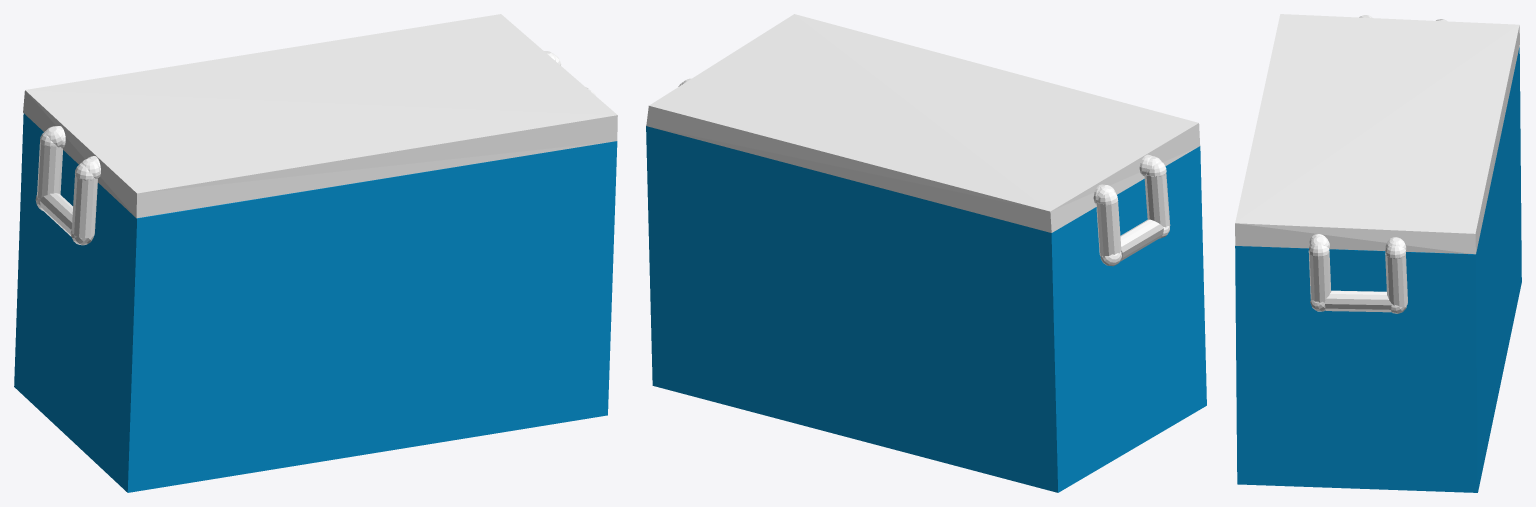
The model's file is blue-cooler--closed-by-s--paul-michael-2sX5RyEluoW.glb.
3 views of the same model, side by side, from view 1: azimuth 30°, elevation 25°; view 2: azimuth 150°, elevation 25°; view 3: azimuth 270°, elevation 25° (orthographic). The views are drawn at different scales.
Visible parts, largest first — view 1: group1410695581, group228052646, group504770976, group684358655, group424572092; view 2: group1410695581, group228052646, group684358655, group504770976, group424572092; view 3: group1410695581, group228052646, group619115582, group860581732, group867282281.
Boxes of the visible parts, x1,y1,x2,y2 form: group1410695581: (14,113,617,492); group228052646: (23,14,617,218); group504770976: (71,174,97,238); group684358655: (37,142,62,198); group424572092: (40,193,72,236); group1410695581: (646,126,1206,492); group228052646: (646,14,1200,232); group684358655: (1096,201,1121,257); group504770976: (1144,173,1170,227); group424572092: (1120,219,1163,261); group1410695581: (1235,47,1521,492); group228052646: (1235,14,1519,254); group619115582: (1325,290,1391,312); group860581732: (1385,253,1407,307); group867282281: (1308,251,1331,302).
Bounding box in the file's own units: 0.4914 × 0.2918 × 0.2734.
